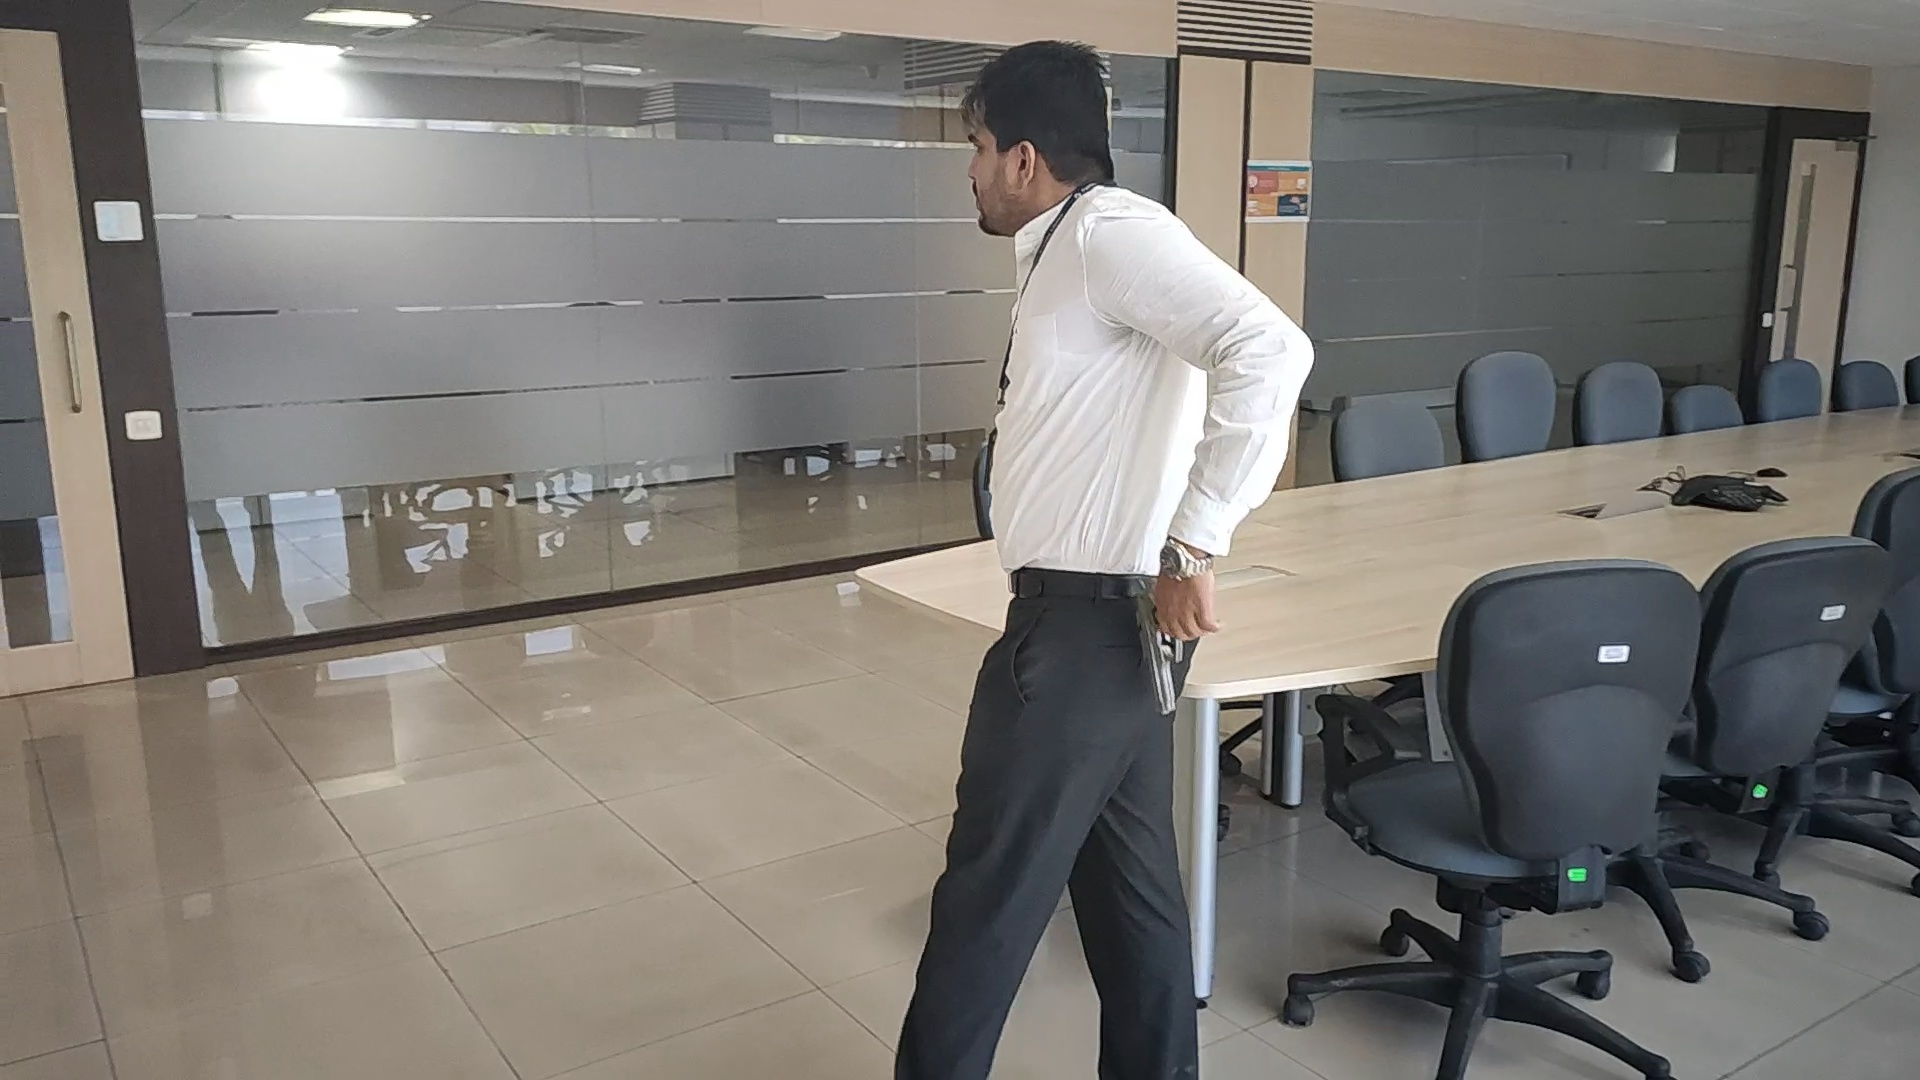gun: (1131, 592, 1185, 716)
